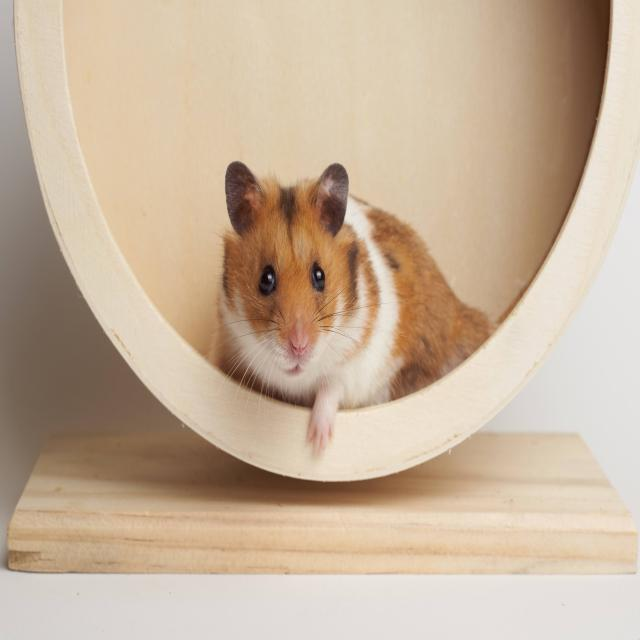hamster: (218, 158, 494, 412)
